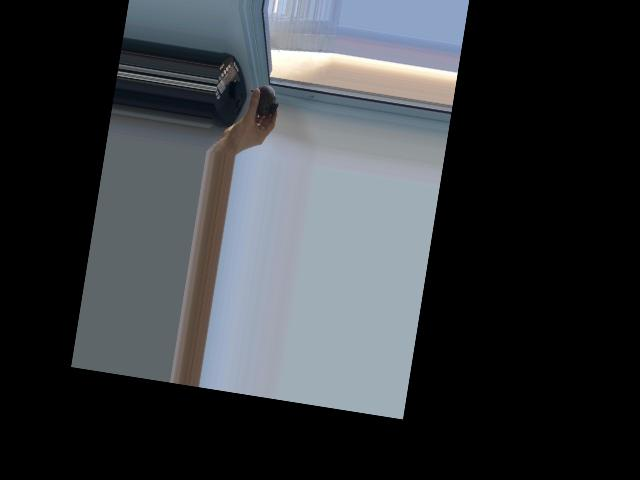beet: (245, 82, 281, 121)
